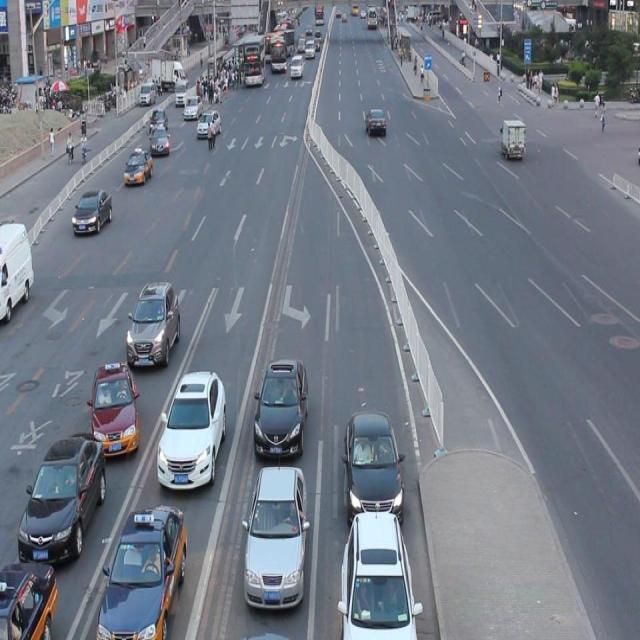car: (92, 501, 188, 640), (17, 431, 106, 568), (339, 508, 419, 640), (242, 463, 306, 611), (156, 367, 226, 492), (343, 408, 403, 527), (252, 357, 308, 460), (89, 361, 140, 460), (124, 279, 180, 369), (1, 558, 57, 640), (71, 188, 113, 235), (124, 147, 154, 186)
truck: (1, 222, 34, 320)
